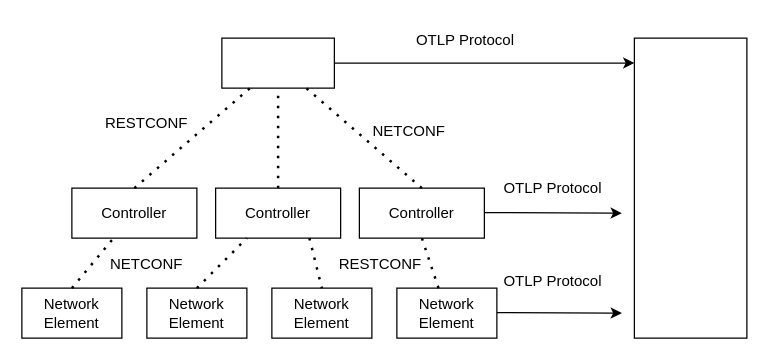
Some shapes in this 769 by 360 pixel diagram are drawn without their labels. Here are the shapes that lost their labels. From the top down, the centre of each, then its label:
At (277,62): "Orchestrator".
At (690,187): "Collector Metrics Traces Logs".
